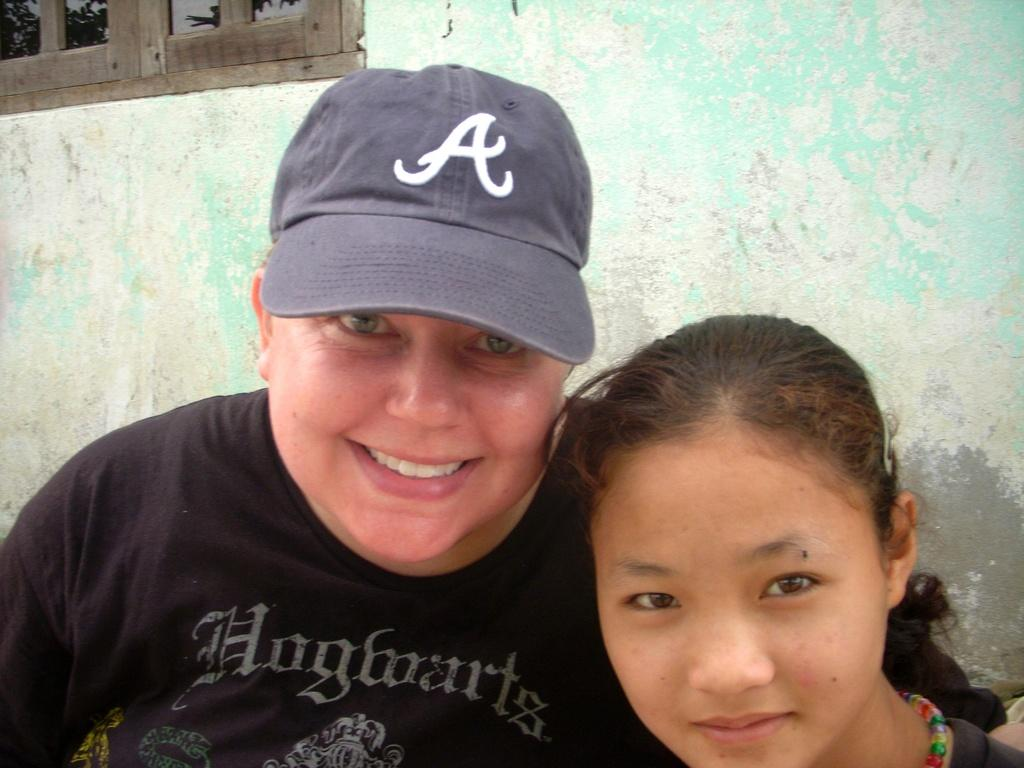Hat: (259, 61, 595, 368)
